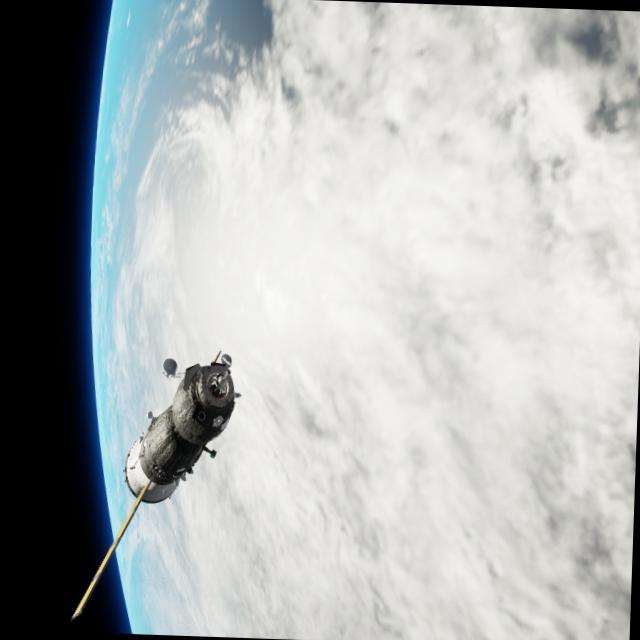Satellites revolving around earth: (68, 342, 243, 628)
